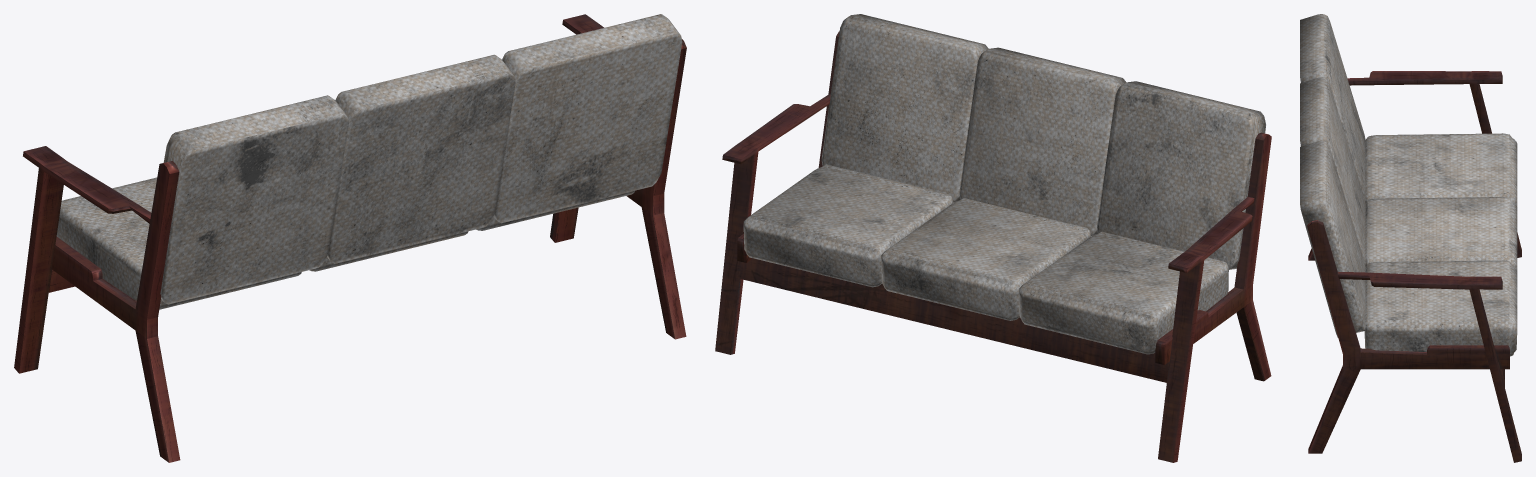
File: Kursi Tunggu.fbx
The picture shows the model from 3 angles, left to right: view 1: azimuth 30°, elevation 25°; view 2: azimuth 150°, elevation 25°; view 3: azimuth 270°, elevation 25°; orthographic projection. The views are drawn at different scales.
Parts seen in each view (by area): view 1: Pillow.001, Base Chair; view 2: Pillow.001, Base Chair; view 3: Pillow.001, Base Chair.
Boxes of the visible parts, x1,y1,x2,y2 form: Pillow.001: (56,14,682,309); Base Chair: (14,14,686,462); Pillow.001: (743,14,1265,354); Base Chair: (715,31,1271,462); Pillow.001: (1300,14,1517,356); Base Chair: (1307,71,1521,462).
Bounding box in the file's own units: 231 × 101 × 127.
